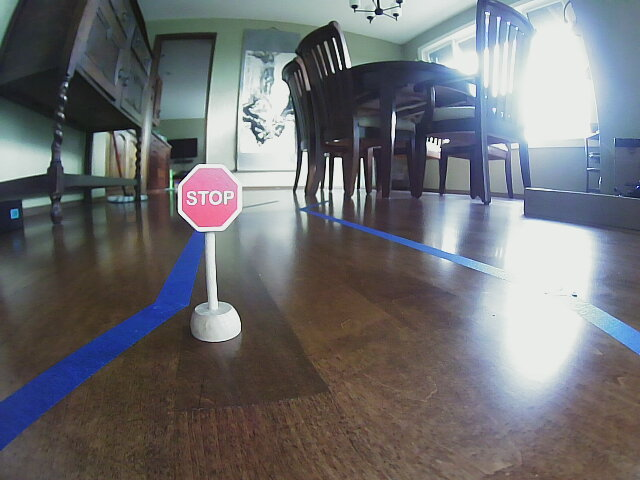StopSign: (179, 165, 242, 230)
